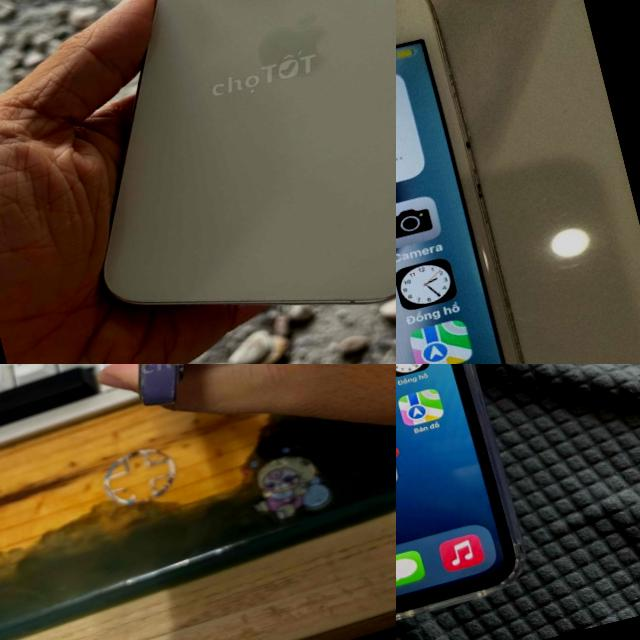gen_15: (0, 0, 396, 364)
gen_6: (396, 0, 521, 364)
gen_x_xs: (396, 364, 520, 618)
scratch: (396, 0, 423, 37)
